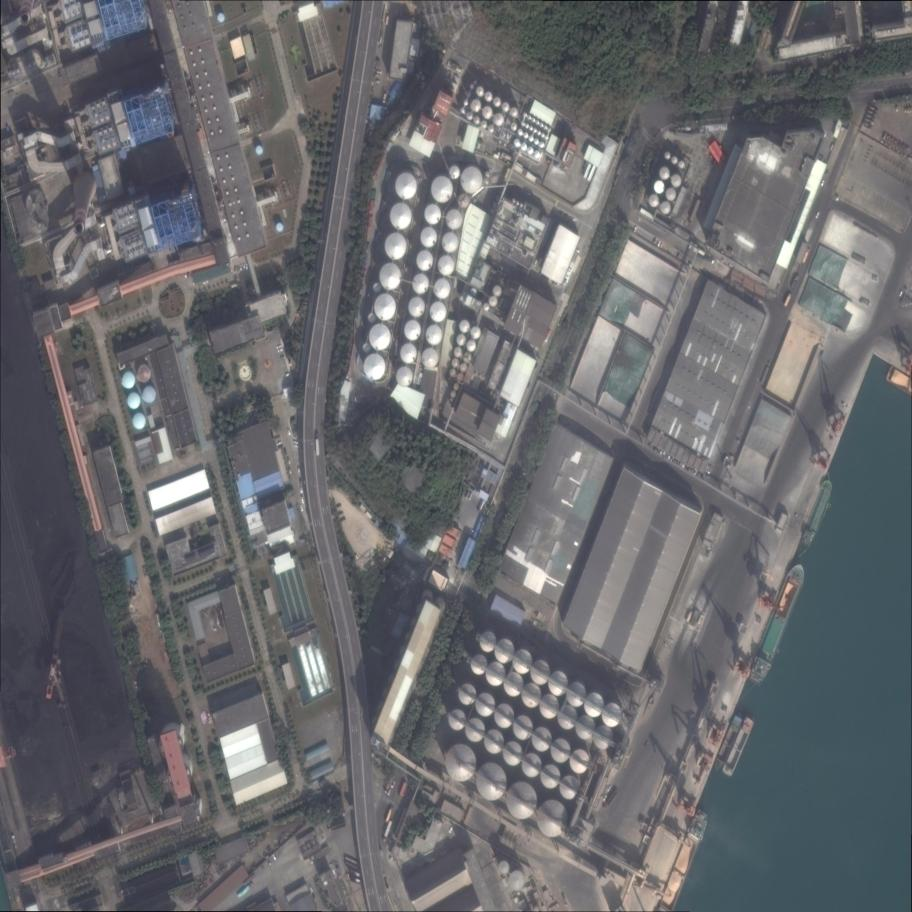large-vehicle: (237, 882, 254, 900), (383, 821, 393, 841), (385, 806, 394, 822), (791, 275, 800, 290), (802, 249, 810, 263), (784, 294, 792, 307), (316, 434, 319, 456)
ship: (743, 559, 811, 689), (655, 808, 712, 912), (799, 477, 836, 547), (721, 716, 756, 778), (711, 712, 745, 773), (45, 662, 57, 699)
small-vehicle: (266, 857, 273, 866), (259, 864, 266, 872), (606, 784, 612, 792), (271, 853, 277, 861), (390, 780, 396, 788), (283, 447, 289, 455), (675, 251, 680, 260), (277, 347, 284, 353), (632, 225, 637, 233), (387, 788, 392, 796), (288, 466, 292, 476), (287, 456, 291, 466), (300, 504, 304, 513), (301, 495, 305, 504), (448, 826, 453, 833), (276, 441, 283, 446), (292, 439, 299, 444), (652, 237, 656, 245), (287, 428, 291, 436), (277, 344, 283, 349), (278, 444, 284, 449), (603, 794, 607, 801), (657, 240, 661, 247), (297, 466, 301, 473), (293, 444, 300, 448), (300, 485, 303, 494), (243, 263, 246, 271), (246, 264, 249, 271), (299, 477, 302, 484), (237, 264, 239, 273), (234, 264, 236, 272), (240, 264, 242, 271)
storage-tank: (477, 762, 507, 801), (538, 800, 568, 837), (446, 745, 476, 781), (508, 782, 537, 819), (385, 232, 407, 260), (461, 166, 483, 194), (395, 173, 417, 200), (431, 176, 453, 203), (380, 263, 401, 291), (391, 203, 412, 230), (365, 353, 386, 380), (370, 323, 391, 350), (375, 294, 396, 321), (549, 671, 569, 696), (540, 694, 560, 719), (504, 672, 524, 697), (495, 703, 514, 729), (567, 681, 586, 707), (495, 639, 515, 663), (514, 715, 533, 740), (560, 775, 579, 800), (541, 764, 560, 789), (552, 738, 571, 763), (558, 705, 577, 730), (531, 660, 550, 685), (522, 754, 541, 778), (485, 730, 504, 754), (476, 693, 495, 717), (466, 718, 485, 742), (533, 727, 552, 751), (571, 750, 590, 774), (576, 716, 595, 740), (522, 684, 541, 708), (513, 650, 532, 674), (602, 703, 621, 727), (585, 693, 604, 717), (504, 741, 522, 766), (595, 725, 613, 750), (487, 662, 505, 686), (458, 684, 476, 705), (449, 710, 466, 731), (422, 348, 439, 369), (400, 343, 417, 364), (430, 301, 447, 322), (442, 232, 459, 253), (416, 250, 433, 271), (434, 278, 451, 299), (421, 226, 437, 248), (480, 632, 497, 652), (408, 297, 425, 317), (446, 209, 463, 229), (471, 654, 487, 675), (405, 320, 421, 341), (397, 366, 413, 387), (426, 324, 442, 345), (413, 273, 429, 294), (425, 204, 441, 224), (438, 255, 454, 275), (509, 871, 524, 891), (127, 393, 141, 410), (121, 372, 135, 389), (133, 413, 146, 430), (143, 386, 156, 403), (138, 365, 151, 382), (458, 194, 469, 209), (449, 165, 460, 179), (660, 201, 671, 215), (654, 180, 665, 194), (659, 167, 670, 180), (648, 194, 659, 207), (499, 861, 509, 875), (460, 320, 470, 333), (494, 113, 504, 126), (483, 106, 493, 119), (471, 99, 481, 112), (666, 188, 676, 201), (671, 174, 681, 187), (456, 334, 466, 346), (471, 327, 481, 339), (467, 340, 476, 352), (489, 296, 498, 308), (454, 347, 463, 358), (463, 353, 472, 363), (493, 286, 502, 296), (255, 145, 264, 155), (485, 91, 493, 102), (460, 363, 468, 373), (476, 87, 484, 97), (217, 13, 225, 23), (373, 283, 381, 293), (363, 343, 371, 353), (502, 102, 509, 113), (276, 223, 284, 232), (510, 108, 518, 117), (452, 358, 459, 368), (494, 97, 501, 107), (470, 288, 477, 297), (368, 314, 375, 323), (671, 156, 678, 165), (511, 122, 518, 131), (514, 139, 521, 148), (527, 146, 534, 155), (450, 369, 457, 377), (481, 121, 488, 129), (678, 161, 685, 169), (474, 116, 480, 125), (534, 150, 540, 159), (454, 383, 460, 391), (458, 373, 464, 381), (488, 125, 494, 133), (484, 303, 490, 311), (467, 112, 473, 120), (665, 151, 671, 159), (521, 143, 527, 151), (523, 132, 529, 139), (451, 390, 456, 398), (486, 171, 491, 178), (518, 129, 523, 136), (529, 135, 534, 142), (540, 141, 545, 148), (534, 138, 539, 145), (470, 84, 475, 90), (464, 100, 469, 106), (485, 179, 490, 185), (473, 80, 478, 85), (461, 108, 465, 114), (521, 121, 525, 127), (532, 117, 536, 123), (545, 135, 549, 141), (537, 130, 541, 136), (540, 122, 544, 128), (467, 92, 471, 97), (523, 113, 527, 118), (519, 203, 523, 208), (515, 201, 519, 206), (548, 127, 552, 132), (541, 133, 545, 138), (544, 125, 548, 130), (533, 128, 537, 133), (528, 115, 531, 121), (530, 125, 533, 131), (450, 398, 453, 403), (526, 124, 529, 129), (536, 120, 539, 125), (512, 199, 515, 203)
